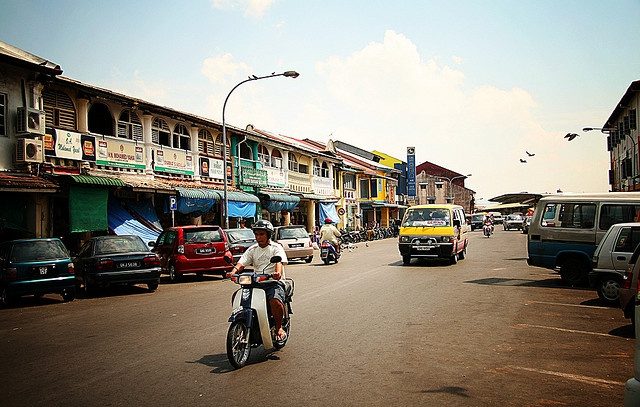non-vehicle: (222, 255, 293, 368), (317, 231, 341, 264), (483, 220, 493, 237)
